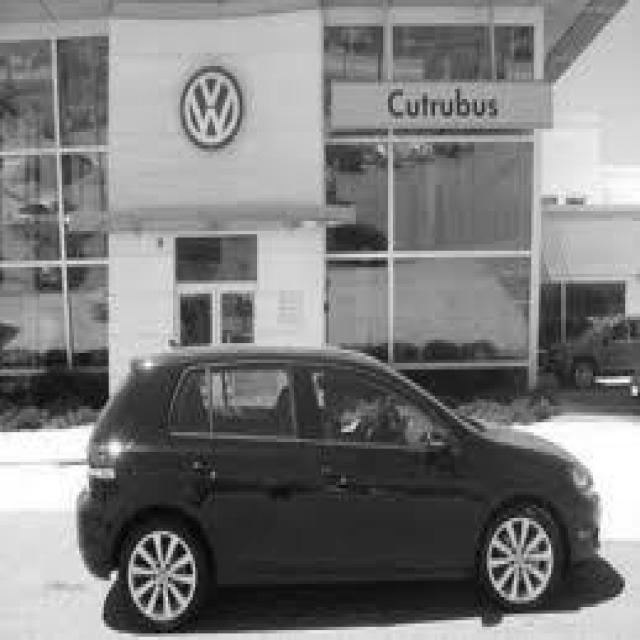car: (74, 340, 601, 630), (546, 310, 638, 396)
